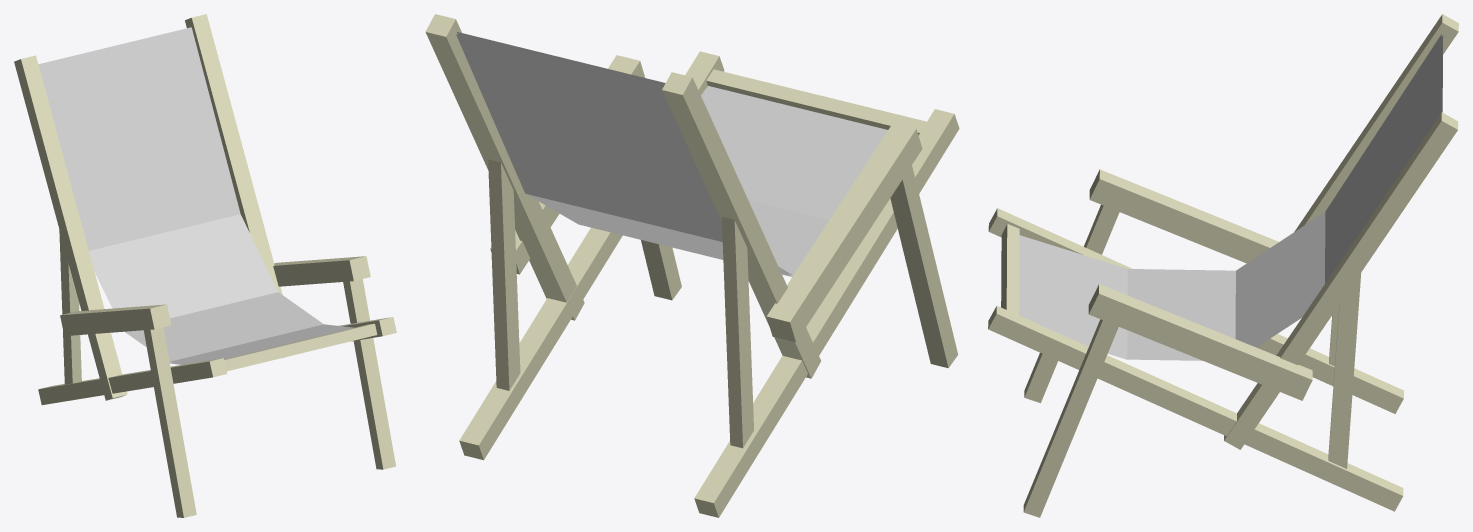
The model's file is sunbed_001.glb.
3 renders of one model, left to right at view 1: azimuth 30°, elevation 25°; view 2: azimuth 150°, elevation 25°; view 3: azimuth 270°, elevation 25°, orthographic. The views are drawn at different scales.
Visible parts, largest first — view 1: sunbed_001; view 2: sunbed_001; view 3: sunbed_001.
Part boxes in pixels (<box>): sunbed_001: <box>14,14,396,517</box>; sunbed_001: <box>425,14,959,517</box>; sunbed_001: <box>988,14,1458,517</box>.
Size of the model in its own units: 0.6737 by 0.9871 by 1.08.
1 material, 1 textured.
